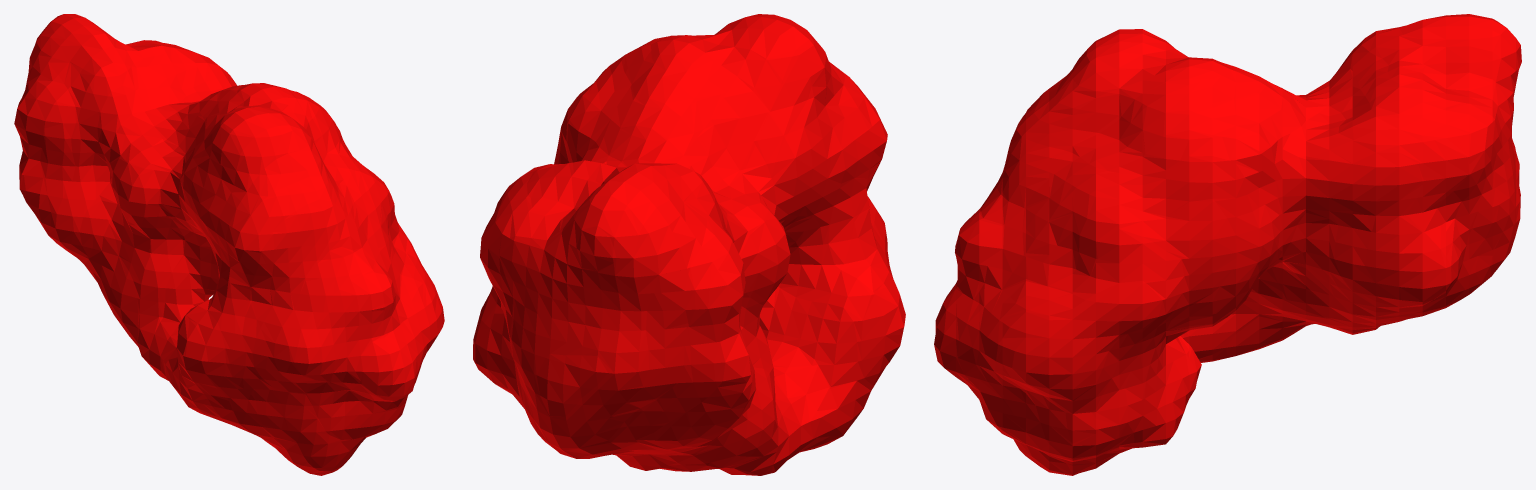
Rendered from mutY_coarse.dae.
3 renders of one model, left to right at view 1: azimuth 30°, elevation 25°; view 2: azimuth 150°, elevation 25°; view 3: azimuth 270°, elevation 25°, orthographic. The views are drawn at different scales.
Parts seen in each view (by area): view 1: mutY; view 2: mutY; view 3: mutY.
Boxes of the visible parts, x1,y1,x2,y2 form: mutY: [14, 14, 444, 475]; mutY: [473, 14, 905, 475]; mutY: [934, 14, 1521, 475].
Bounding box in the file's own units: 46.96 × 60.04 × 77.1.
